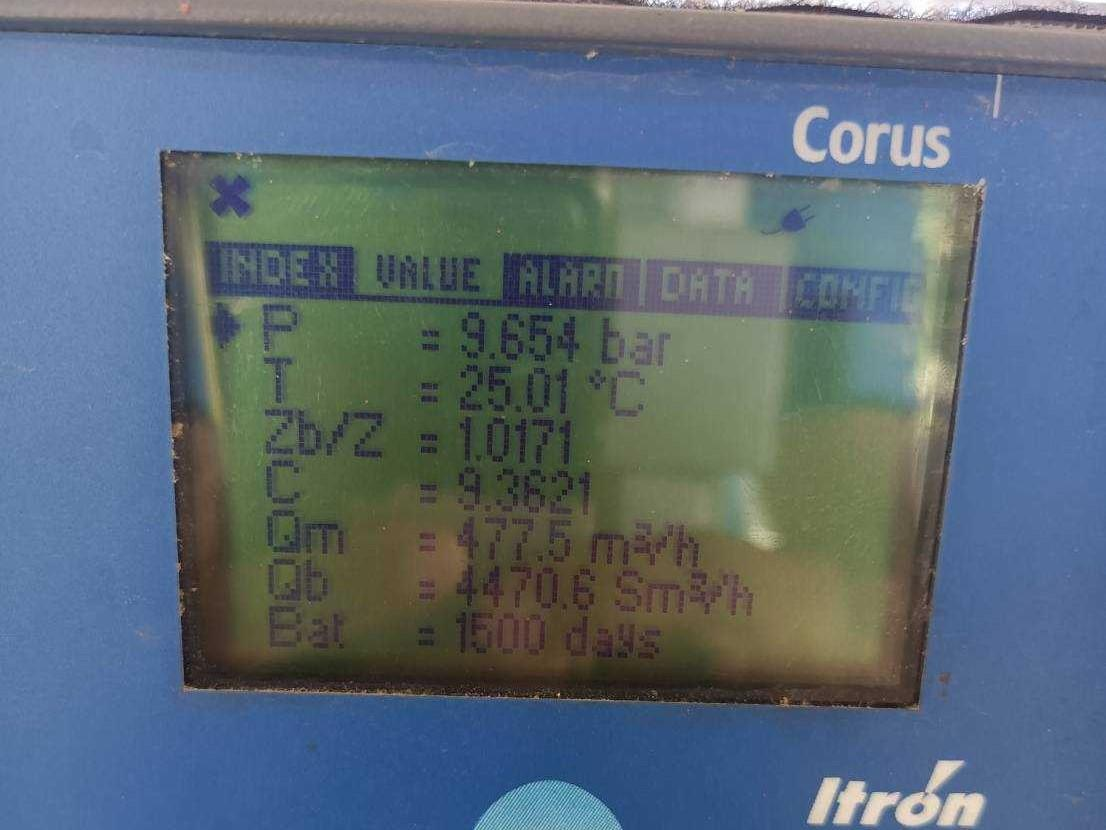digital_screen: (151, 150, 984, 709)
